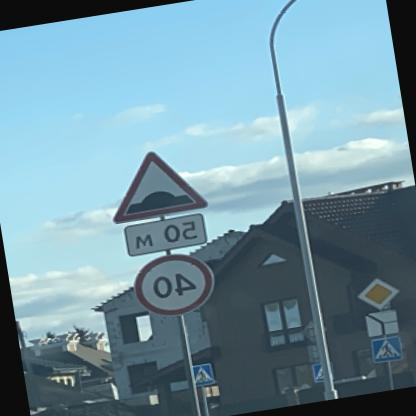crosswalk: (372, 332, 405, 362), (312, 358, 337, 380), (193, 362, 216, 383)
speedlimit: (130, 247, 219, 320)
